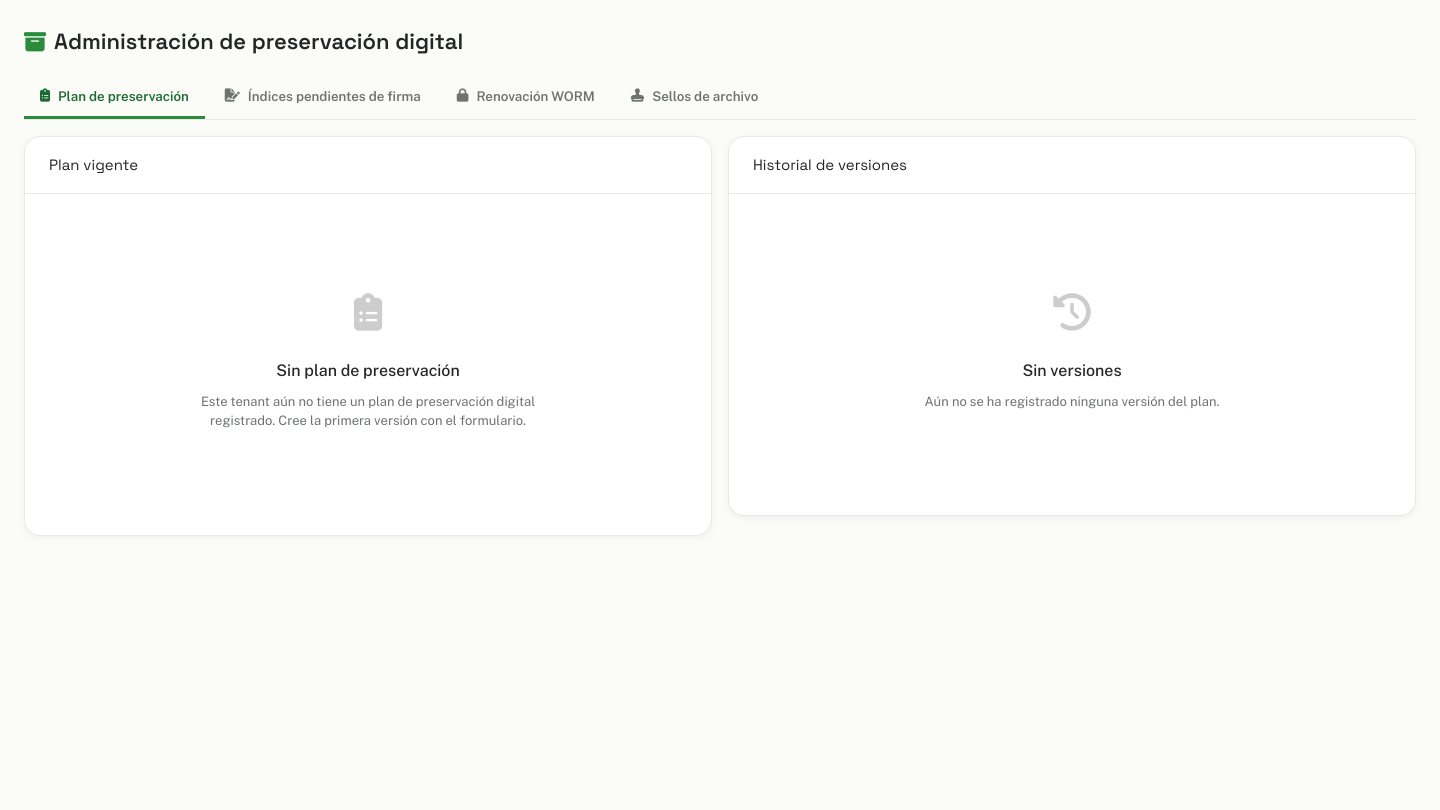
Scenario: /admin/preservacion — pestaña Sellos de archivo › vacío de verdad: se dice que no hay sellos que atender
This screenshot has width=1440, height=810.
Click the tab "Sellos de archivo". click: x=695, y=97
box: [615, 75, 774, 119]
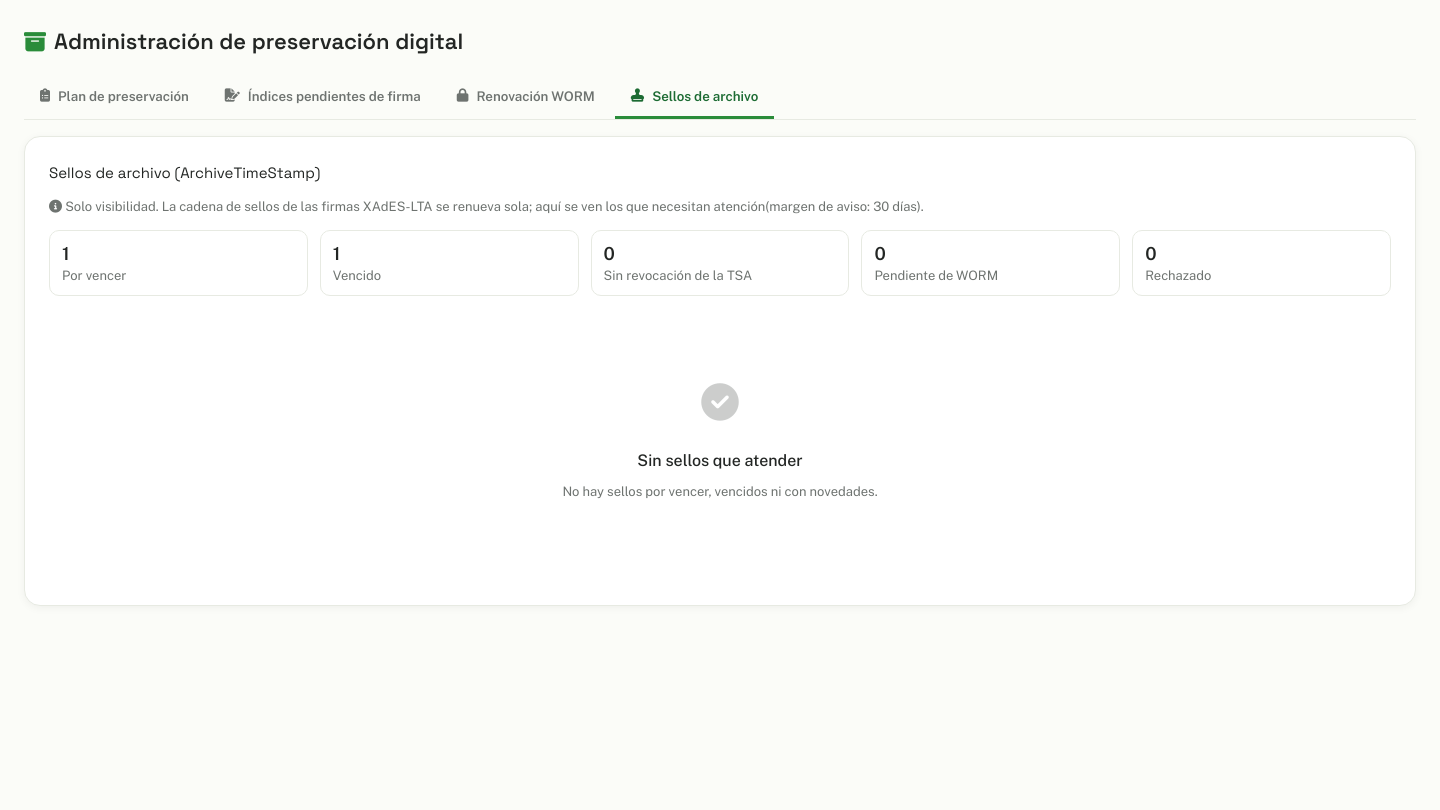
Result: the text "Sin sellos que atender" is shown at [637, 448, 803, 474]
